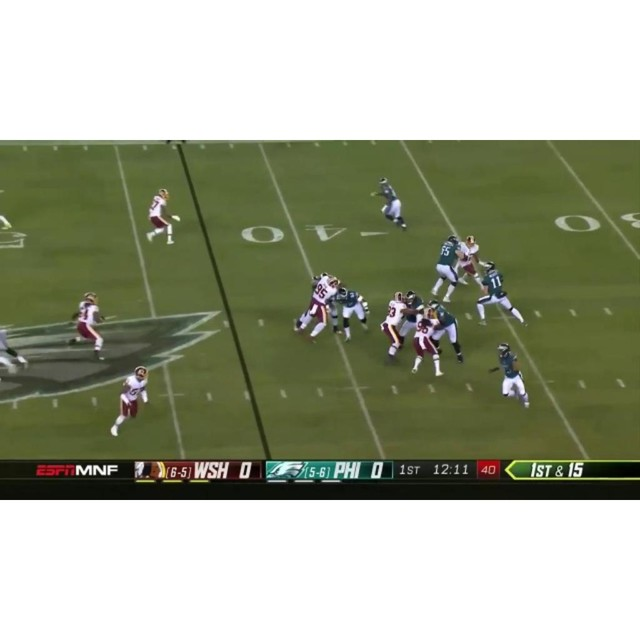american-football-player: (478, 261, 525, 328), (295, 275, 340, 340), (489, 342, 531, 409), (110, 367, 149, 437), (69, 292, 108, 360), (428, 298, 465, 363), (431, 234, 464, 304), (380, 291, 412, 360), (412, 309, 444, 378), (145, 188, 180, 244), (370, 177, 407, 229), (338, 286, 370, 342), (456, 235, 485, 286)
